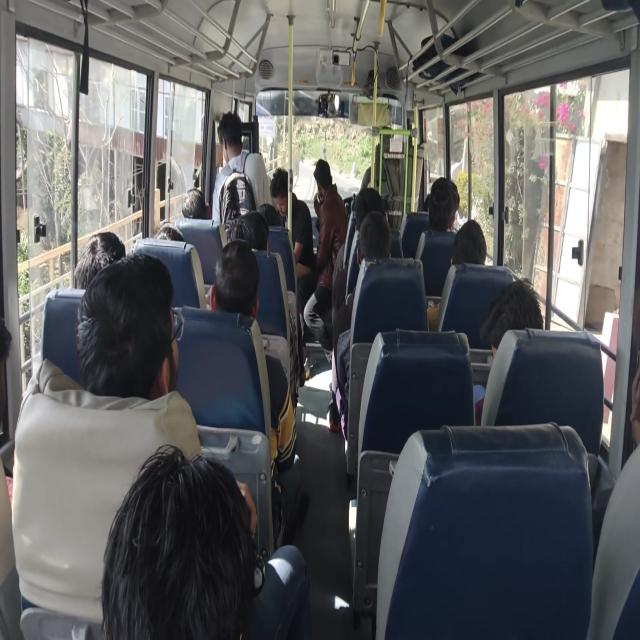person: (75, 252, 258, 539), (100, 443, 257, 639), (209, 239, 303, 540), (76, 252, 182, 401), (586, 356, 640, 638), (331, 210, 392, 440), (472, 278, 544, 425), (297, 158, 347, 363), (331, 186, 385, 318), (426, 218, 486, 330), (415, 177, 460, 297), (211, 110, 256, 226), (270, 167, 314, 277), (210, 239, 259, 318), (74, 230, 125, 288), (426, 176, 460, 233), (450, 219, 487, 265), (230, 210, 269, 251), (181, 187, 210, 219), (154, 221, 185, 241)
